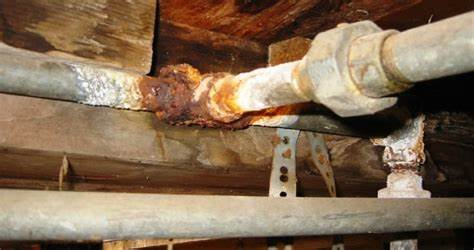Low: (251, 68, 316, 107)
Severe: (137, 63, 262, 134)
